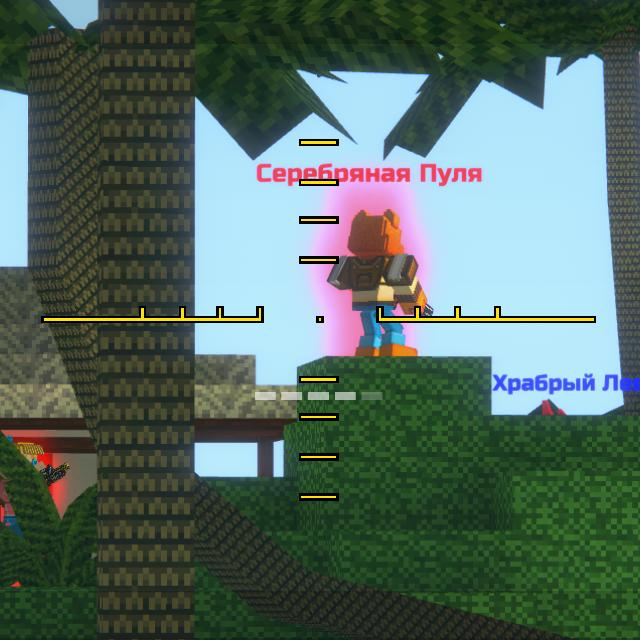Enemy: (327, 209, 428, 356), (0, 443, 47, 539)
